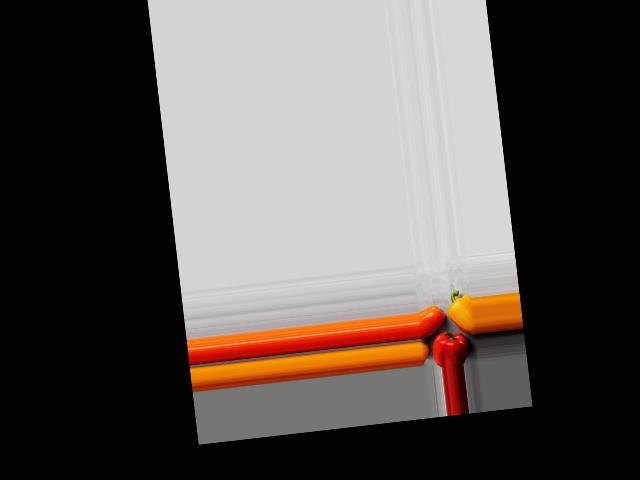bell_pepper: (431, 330, 473, 366)
